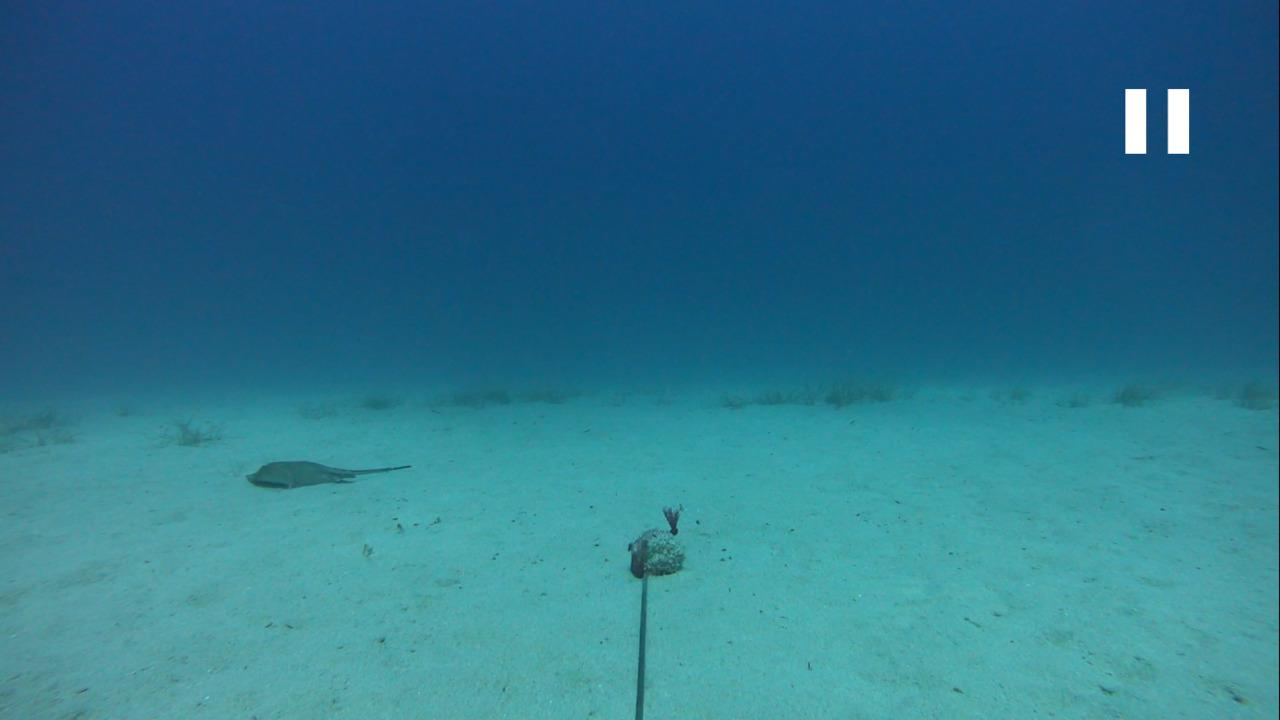myliobatis: (242, 451, 411, 495)
